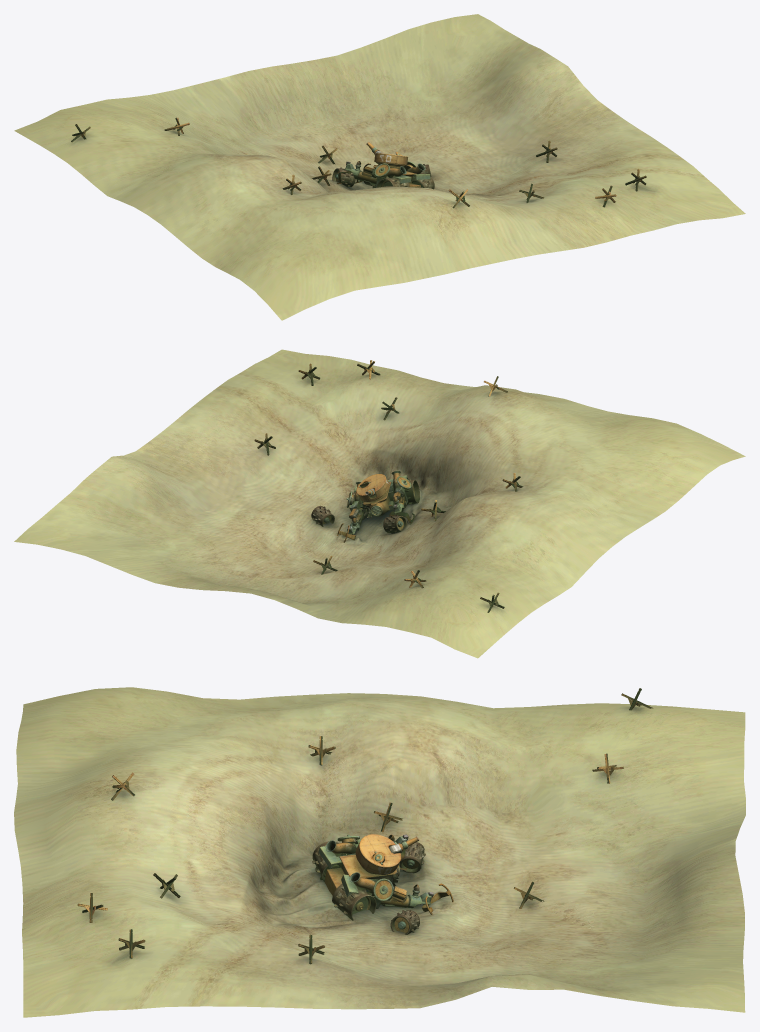
The model's file is tank.obj.
3 renders of one model, top to bottom at view 1: azimuth 30°, elevation 25°; view 2: azimuth 150°, elevation 25°; view 3: azimuth 270°, elevation 25°, orthographic. The views are drawn at different scales.
Parts seen in each view (by area): view 1: subset0_ground_ID_0_0, subset0_barricade_phong_ID_7_0, subset1_right_engine_phong_ID_6_1, subset2_turret_phong_ID_6_2, subset0_left_engine_phong_ID_6_0; view 2: subset0_ground_ID_0_0, subset0_barricade_phong_ID_7_0, subset1_right_engine_phong_ID_6_1, subset2_turret_phong_ID_6_2, subset0_left_engine_phong_ID_6_0; view 3: subset0_ground_ID_0_0, subset0_left_engine_phong_ID_6_0, subset2_turret_phong_ID_6_2, subset0_barricade_phong_ID_7_0, subset1_right_engine_phong_ID_6_1.
Boxes of the visible parts, x1,y1,x2,y2 form: subset0_ground_ID_0_0: (14,14,745,320); subset0_barricade_phong_ID_7_0: (71,117,646,208); subset1_right_engine_phong_ID_6_1: (332,161,411,188); subset2_turret_phong_ID_6_2: (364,142,420,187); subset0_left_engine_phong_ID_6_0: (363,161,434,189); subset0_ground_ID_0_0: (14,349,745,658); subset0_barricade_phong_ID_7_0: (254,360,523,612); subset1_right_engine_phong_ID_6_1: (383,470,419,533); subset2_turret_phong_ID_6_2: (356,474,407,519); subset0_left_engine_phong_ID_6_0: (311,481,365,542); subset0_ground_ID_0_0: (14,687,745,1017); subset0_left_engine_phong_ID_6_0: (332,872,453,934); subset2_turret_phong_ID_6_2: (324,834,418,906); subset0_barricade_phong_ID_7_0: (77,688,653,964); subset1_right_engine_phong_ID_6_1: (312,834,425,881).
Bounding box in the file's own units: 47.88 × 8.95 × 48.31.
Materials: 3 (3 with a texture image).
